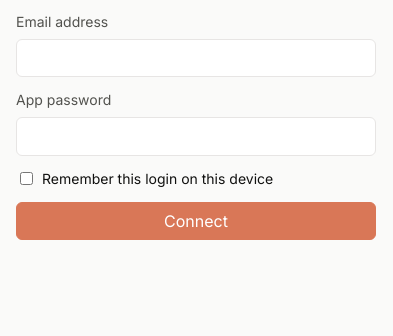
it: LoginForm › hides the vault passphrase field until "remember" is checked
Expected: the field labelled "Vault passphrase" is not shown
Click the checkbox labelled "Remember this login on this device" at (26, 179), box [20,172,33,185]
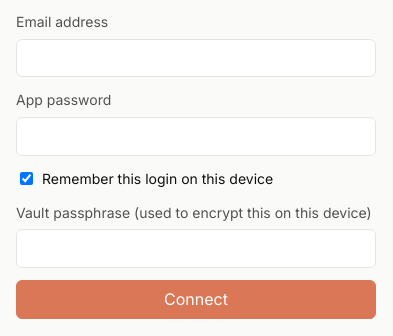
Expected: the password field labelled "Vault passphrase (used to encrypt this on this device)" is shown, [16,229,376,268]
